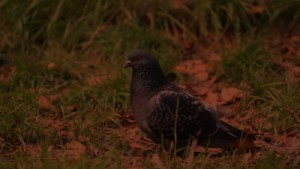pigeon: (122, 48, 262, 154)
